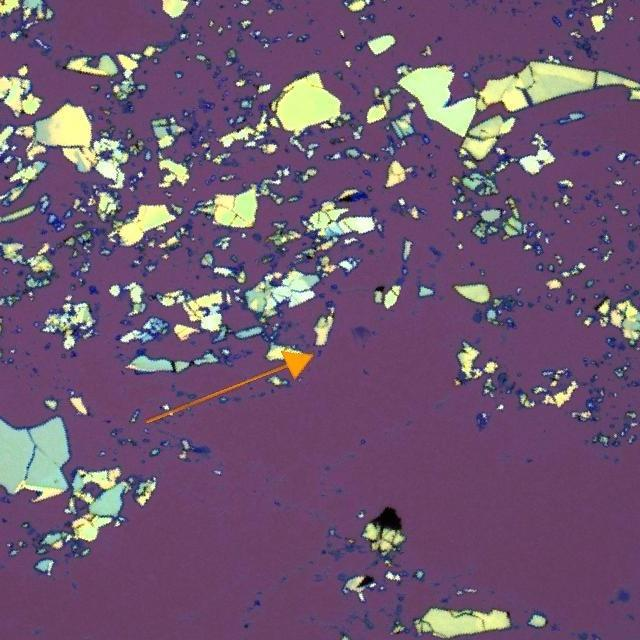monolayer-eWW4: (352, 326, 369, 340)
